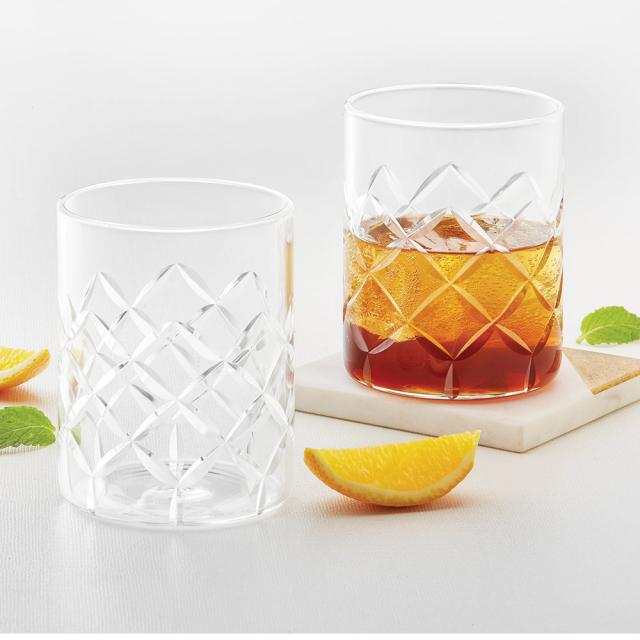glass: (327, 56, 587, 439), (46, 174, 301, 547)
